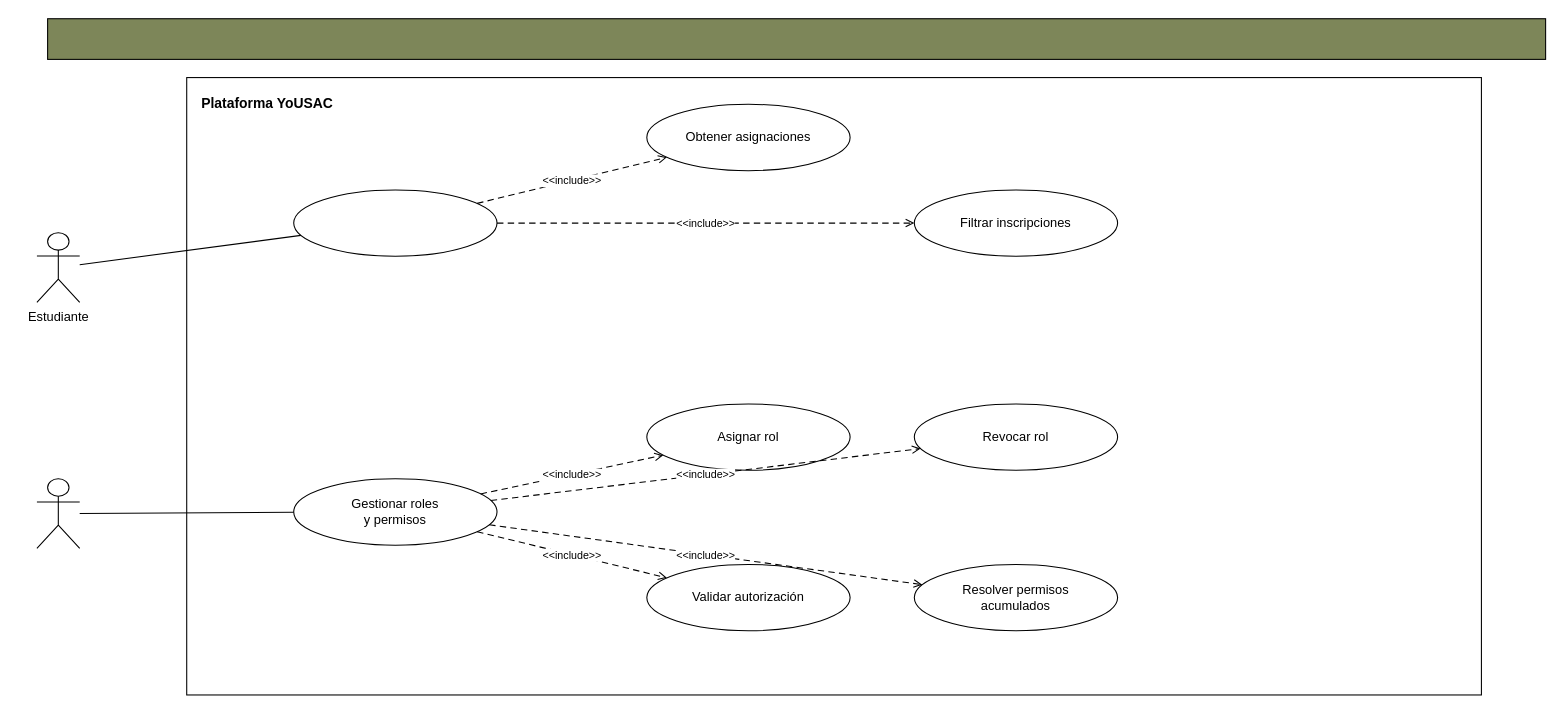
This 1564x714 diagram has some shape labels left out. Each missing label, with the centre of its shape:
"Administrador" goes at point (58, 513).
"Consultar cursos inscritos" goes at point (395, 222).
"Plataforma YoUSAC — Asignaciones y permisos" goes at point (796, 38).
